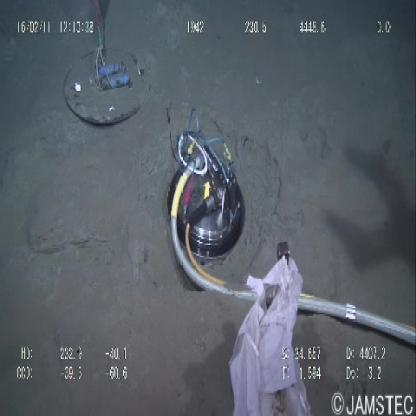Rov: (166, 102, 249, 304), (60, 2, 150, 131)
Rác: (229, 251, 307, 416)
